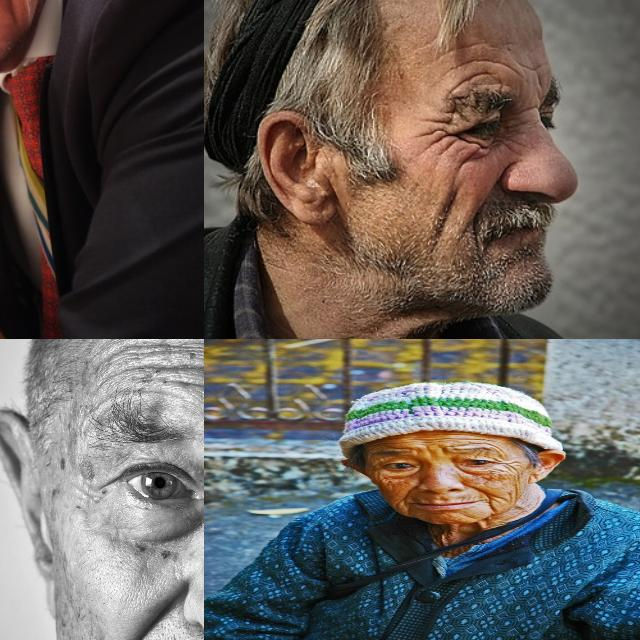chin: (457, 512, 478, 519)
crows_feet: (423, 109, 457, 158), (79, 474, 111, 506), (367, 466, 388, 479), (492, 459, 517, 469)
forehead: (442, 57, 518, 89), (122, 341, 166, 379), (177, 343, 204, 392), (412, 434, 447, 446), (374, 438, 406, 448), (458, 434, 492, 443)
frown_line: (421, 446, 438, 458)
gummy_smile: (133, 576, 180, 640), (461, 483, 495, 497), (398, 485, 420, 500)
masseter: (427, 182, 459, 244), (0, 0, 22, 16), (508, 474, 526, 492)
sad_smile: (484, 500, 501, 515), (400, 503, 416, 514)
